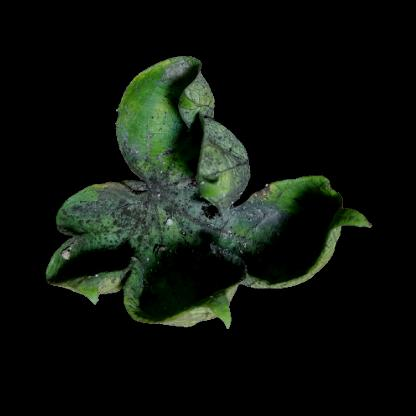curl_stage1: (121, 86, 163, 135)
curl_stage2: (178, 88, 212, 124), (195, 296, 233, 327), (332, 211, 370, 235)
sooty: (98, 181, 207, 252), (197, 197, 293, 265), (113, 251, 180, 303)
